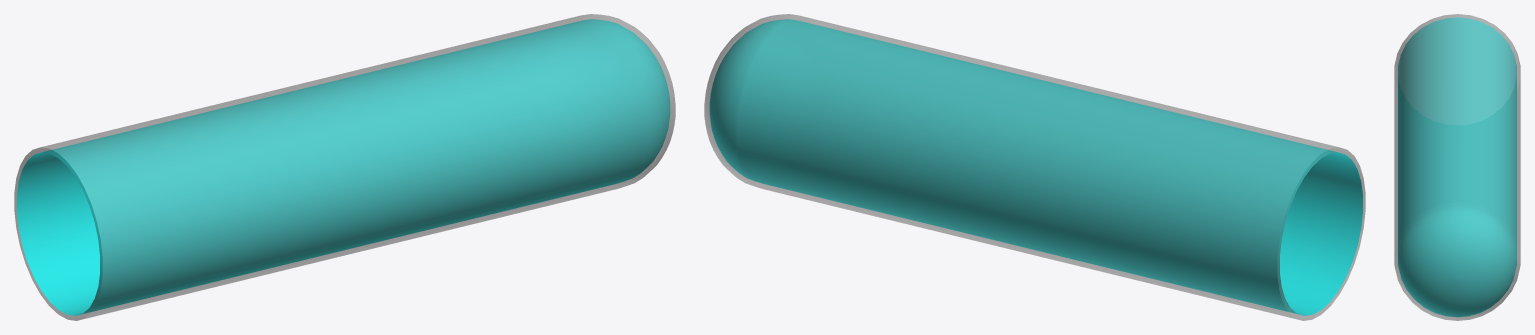
The model's file is vialUVfixed.fbx.
3 renders of one model, left to right at view 1: azimuth 30°, elevation 25°; view 2: azimuth 150°, elevation 25°; view 3: azimuth 270°, elevation 25°, orthographic. The views are drawn at different scales.
Parts seen in each view (by area): view 1: vial; view 2: vial; view 3: vial.
Part boxes in pixels (x1,y1,x2,y2): vial: (14, 14, 675, 320); vial: (704, 14, 1365, 320); vial: (1394, 14, 1520, 320).
Size of the model in its own units: 149 by 38.25 by 38.04.
